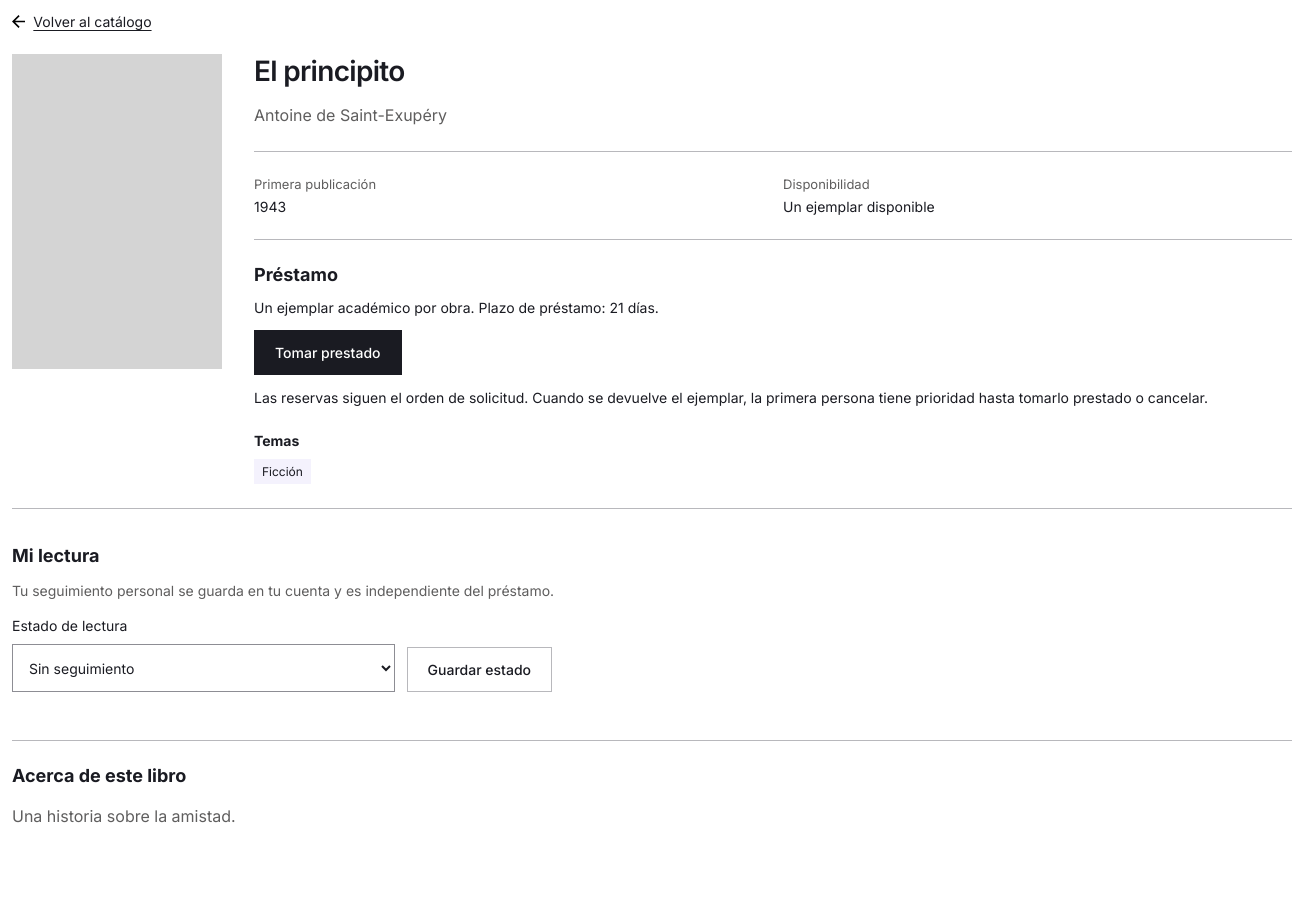
Scenario: BookPage y useBorrowBook con la API simulada › actualiza la disponibilidad cuando otro usuario tomó el ejemplar
Click the button "Tomar prestado": (328, 353) [254, 330, 402, 375]
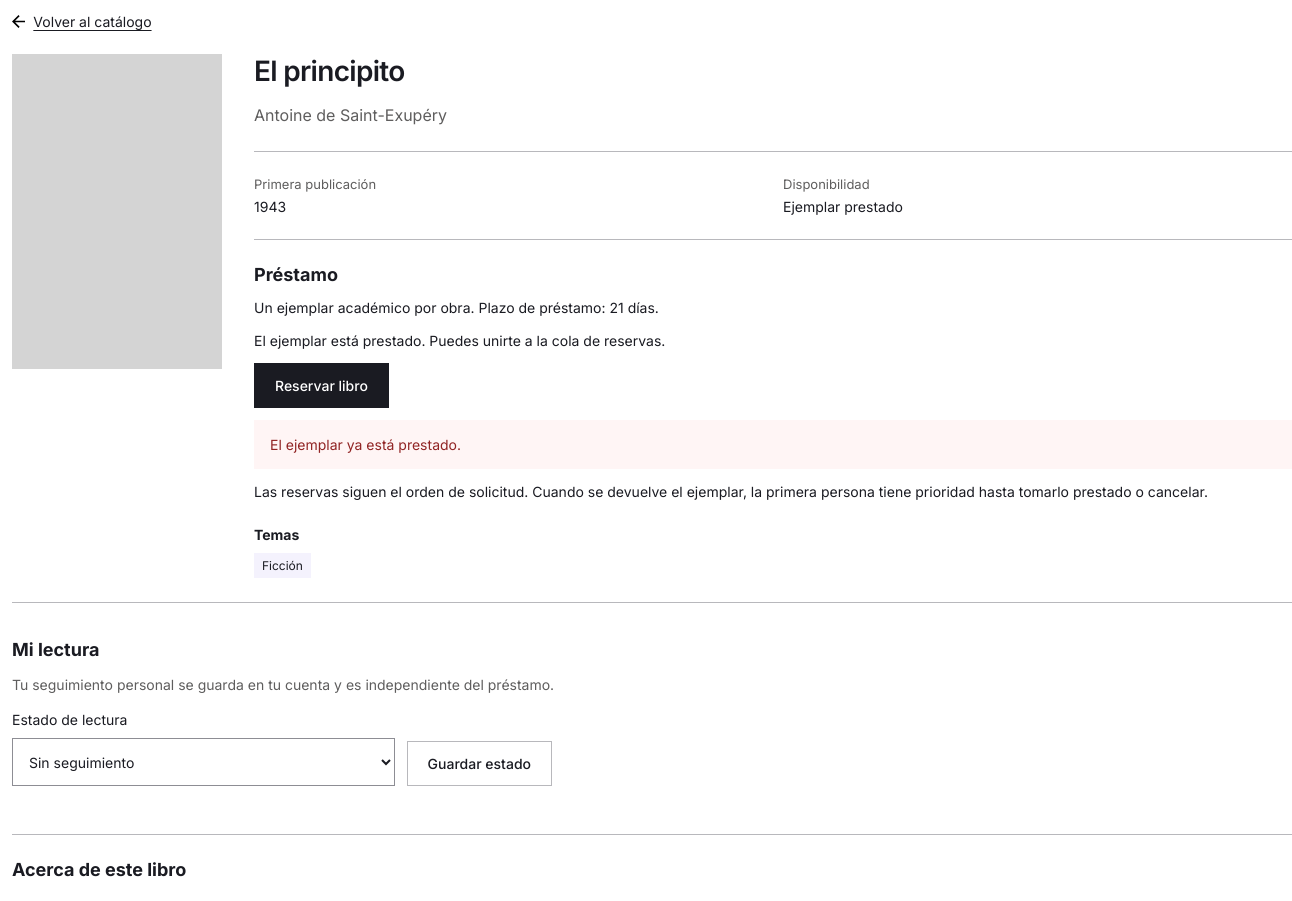
expect the button "Reservar libro" is enabled: met, box [254, 363, 389, 408]
expect the message reads "El ejemplar ya está prestado.": met, box [270, 436, 461, 453]
